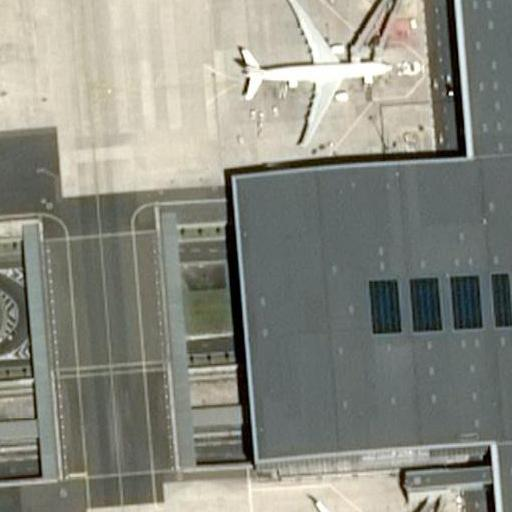Aircraft: (221, 0, 406, 147), (249, 499, 437, 512)
